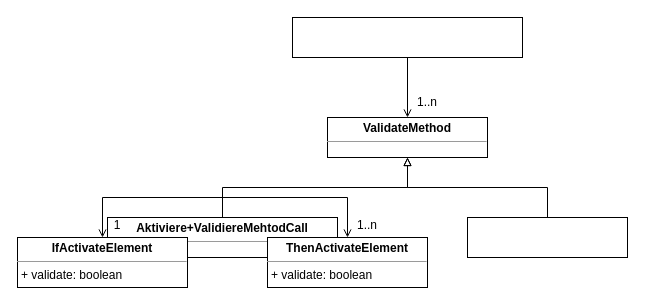
Some shapes in this 645 by 305 pixel diagram are drawn without their labels. Here are the shapes that lost their labels. From the top down, the centre of each, then its label:
At point 407,37: "AktivationTree+Validation".
At point 547,237: "ValidiereMethodCall".
